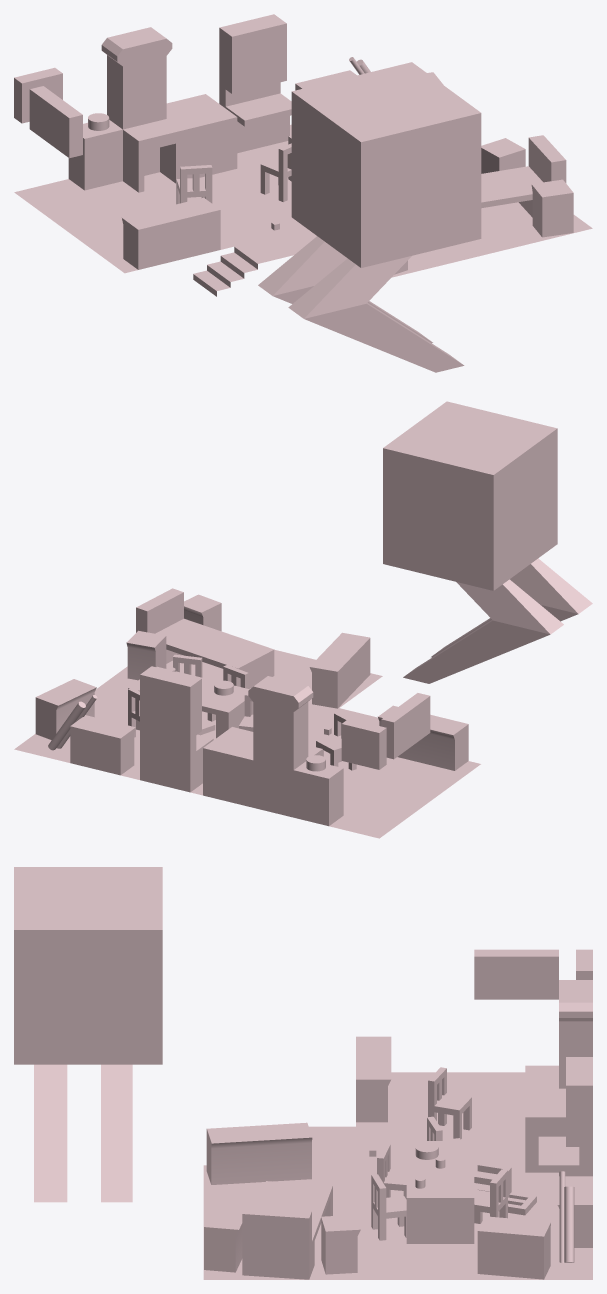
Rendered from Whitebox.fbx.
3 views of the same model, one above another, from view 1: azimuth 30°, elevation 25°; view 2: azimuth 150°, elevation 25°; view 3: azimuth 270°, elevation 25° (orthographic). The views are drawn at different scales.
Parts seen in each view (by area): view 1: Counter9; view 2: Counter9; view 3: Counter9.
Boxes of the visible parts, left/top/right/bottom form: Counter9: left=14, top=14, right=592, bottom=372; Counter9: left=14, top=401, right=592, bottom=838; Counter9: left=14, top=867, right=592, bottom=1279.
Size of the model in its own units: 72.5 by 44.98 by 85.48.
